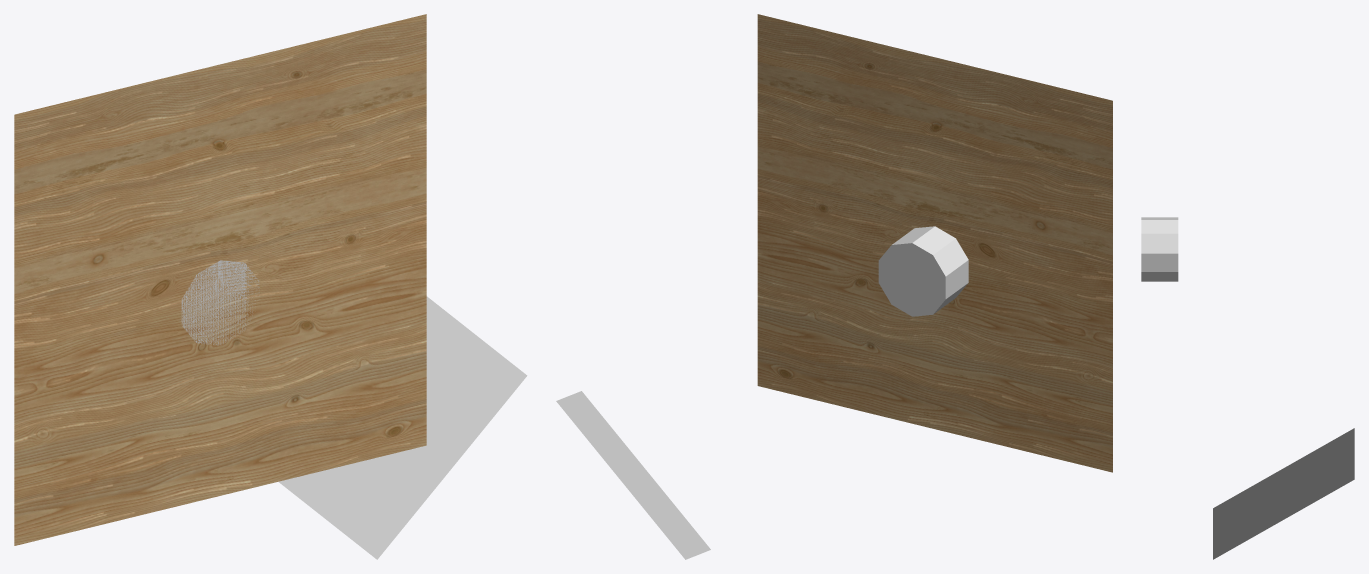
Rendered from plan_cyl_tex.fbx.
3 views of the same model, side by side, from view 1: azimuth 30°, elevation 25°; view 2: azimuth 150°, elevation 25°; view 3: azimuth 270°, elevation 25° (orthographic). The views are drawn at different scales.
Visible parts, largest first — view 1: plan, Plane.001, Cylinder; view 2: plan, Cylinder, Plane.001; view 3: Plane.001, Cylinder.
Part boxes in pixels (x1,y1,x2,y2): plan: [14, 14, 426, 545]; Plane.001: [278, 296, 527, 559]; Cylinder: [181, 260, 259, 345]; plan: [757, 14, 1112, 472]; Cylinder: [878, 226, 968, 316]; Plane.001: [556, 391, 710, 559]; Plane.001: [1213, 428, 1354, 559]; Cylinder: [1141, 217, 1178, 281].
Size of the model in its own units: 274 by 271 by 129.
3 materials, 1 textured.
